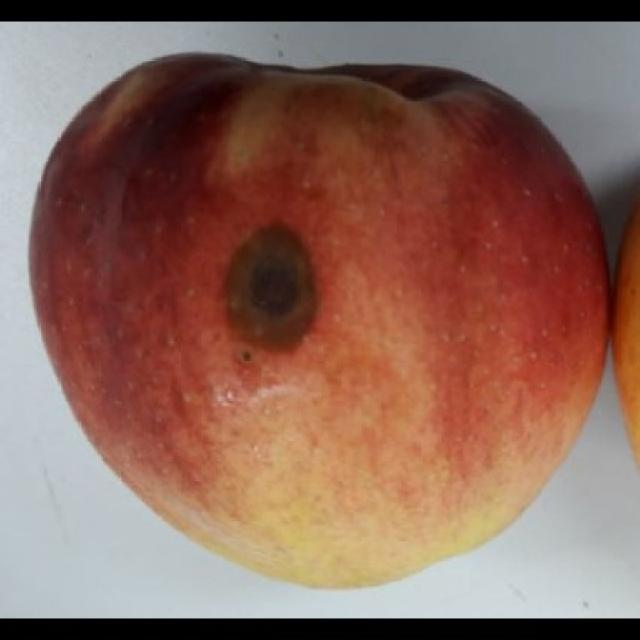Rotten Apple: (25, 48, 617, 595)
